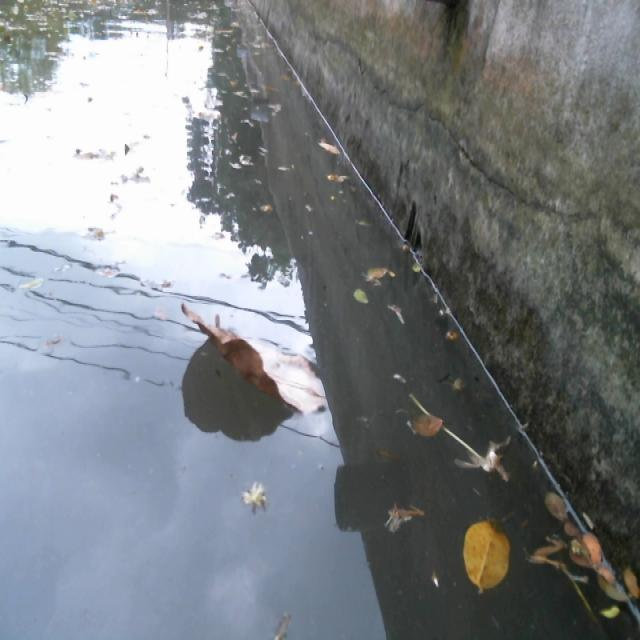Big-leaf: (167, 281, 332, 417)
Small-leaf: (459, 517, 515, 594), (564, 530, 605, 573), (593, 568, 634, 605), (539, 482, 568, 524), (411, 404, 443, 442), (348, 282, 377, 318), (365, 257, 397, 285), (384, 299, 409, 329), (324, 169, 352, 191), (318, 136, 341, 160), (438, 326, 460, 348), (561, 516, 579, 541)
